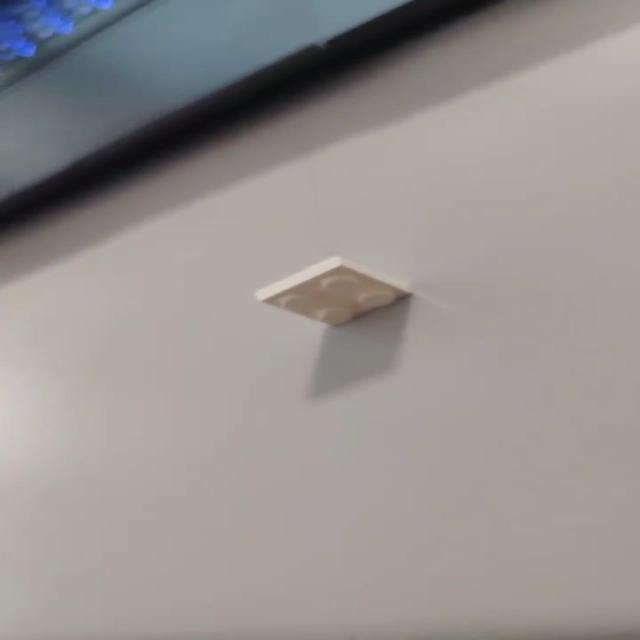C2x2x0: (247, 253, 426, 330)
